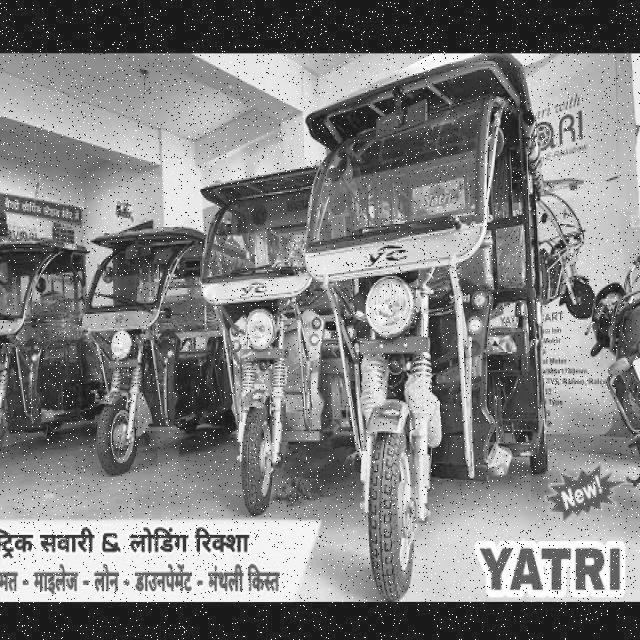Toto: (303, 39, 577, 595), (199, 165, 343, 523), (82, 210, 210, 479), (0, 221, 86, 473)
